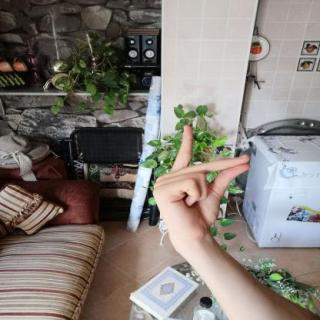TAA: (144, 119, 257, 251)
